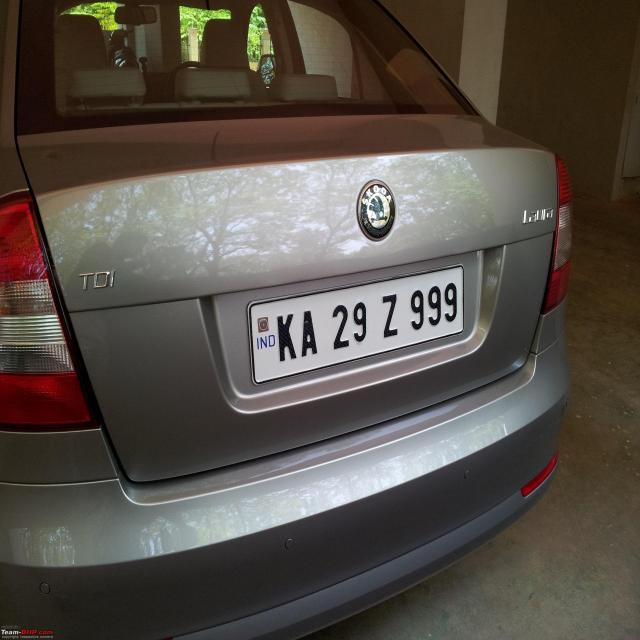Number-Plate: (255, 268, 463, 384)
